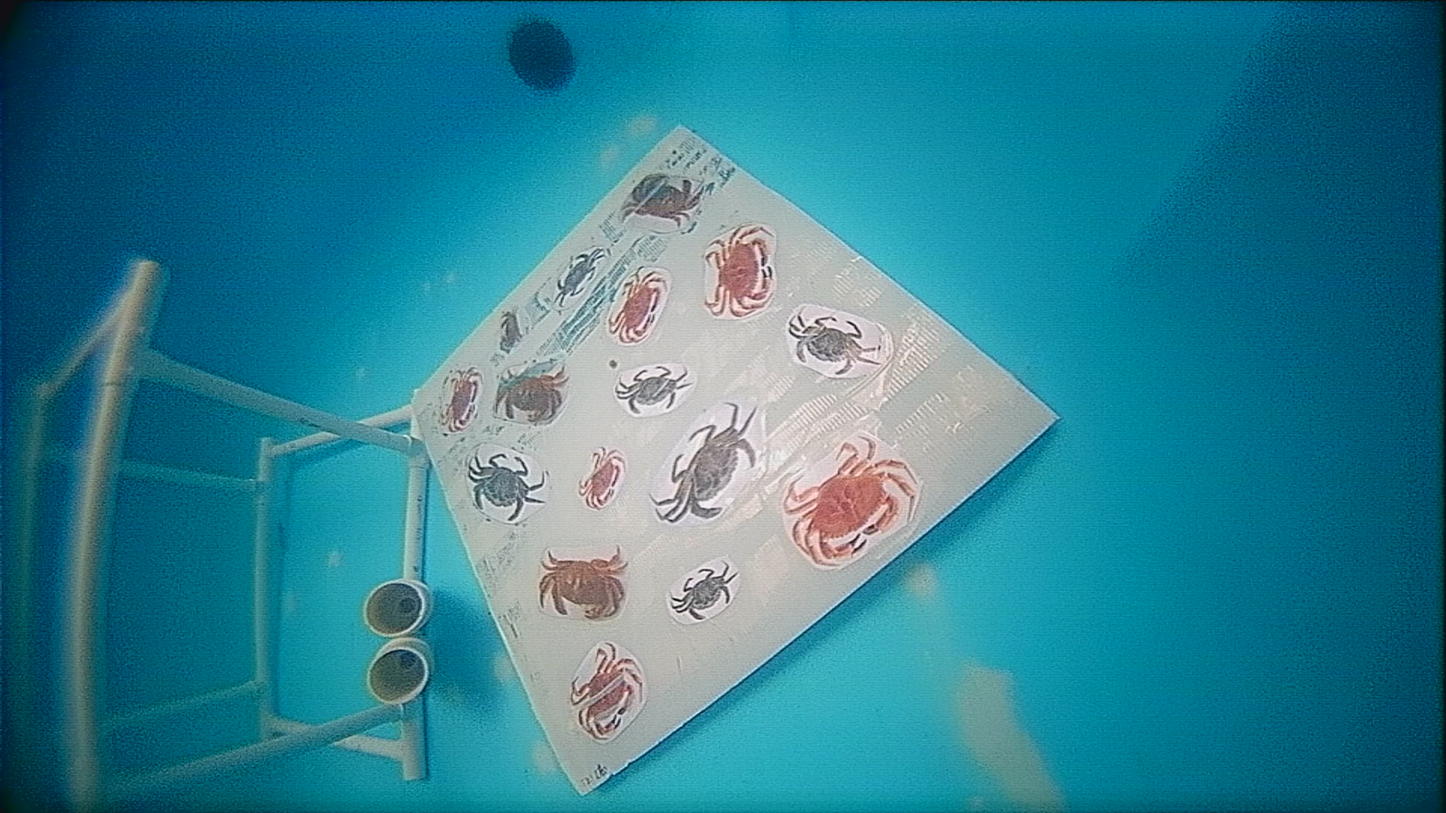GreenCrab: (654, 403, 756, 522), (468, 452, 545, 521), (789, 315, 878, 373), (670, 564, 736, 620), (615, 367, 688, 414)
